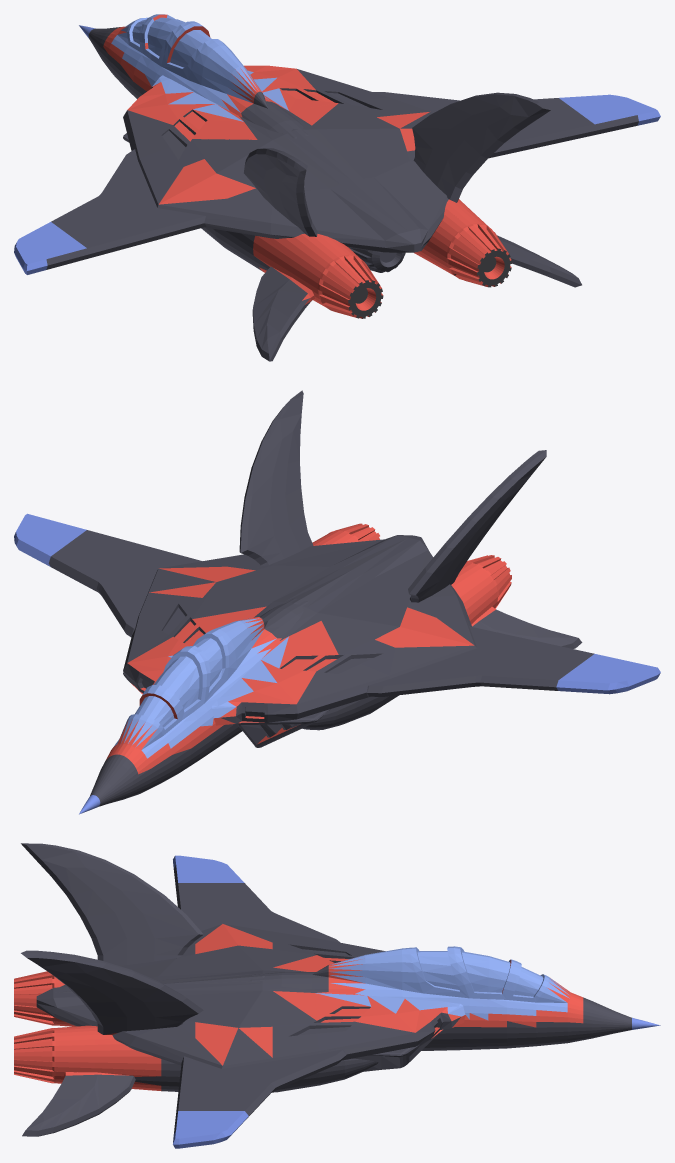
File: turbokat_open.glb
The picture shows the model from 3 angles, top to bottom: view 1: azimuth 30°, elevation 25°; view 2: azimuth 150°, elevation 25°; view 3: azimuth 270°, elevation 25°; orthographic projection. The views are drawn at different scales.
Visible parts, largest first — view 1: body, cockpit, engine, glass, stripe, nozzle; view 2: body, cockpit, glass, stripe, engine; view 3: body, glass, cockpit, engine, stripe.
Boxes of the visible parts, x1,y1,x2,y2 form: body: (46,27,638,361); cockpit: (103,14,429,204); engine: (253,199,511,318); glass: (111,14,288,121); stripe: (14,25,660,274); nozzle: (348,248,511,318); body: (48,390,594,806); cockpit: (105,566,474,774); glass: (113,618,288,758); stripe: (14,513,660,814); engine: (312,523,511,626); body: (21,843,631,1136); glass: (315,946,569,1020); cockpit: (195,924,583,1065); engine: (14,971,161,1090); stripe: (173,855,660,1148).
Size of the model in its own units: 22.93 by 6.44 by 22.
